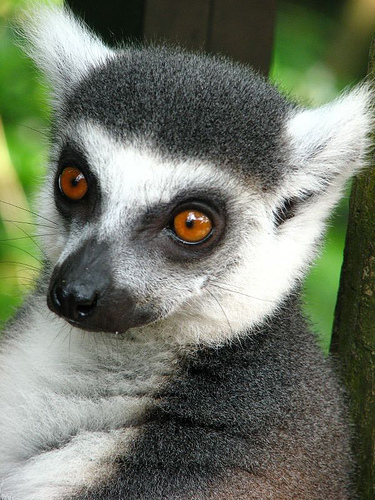cat: (6, 7, 368, 496)
